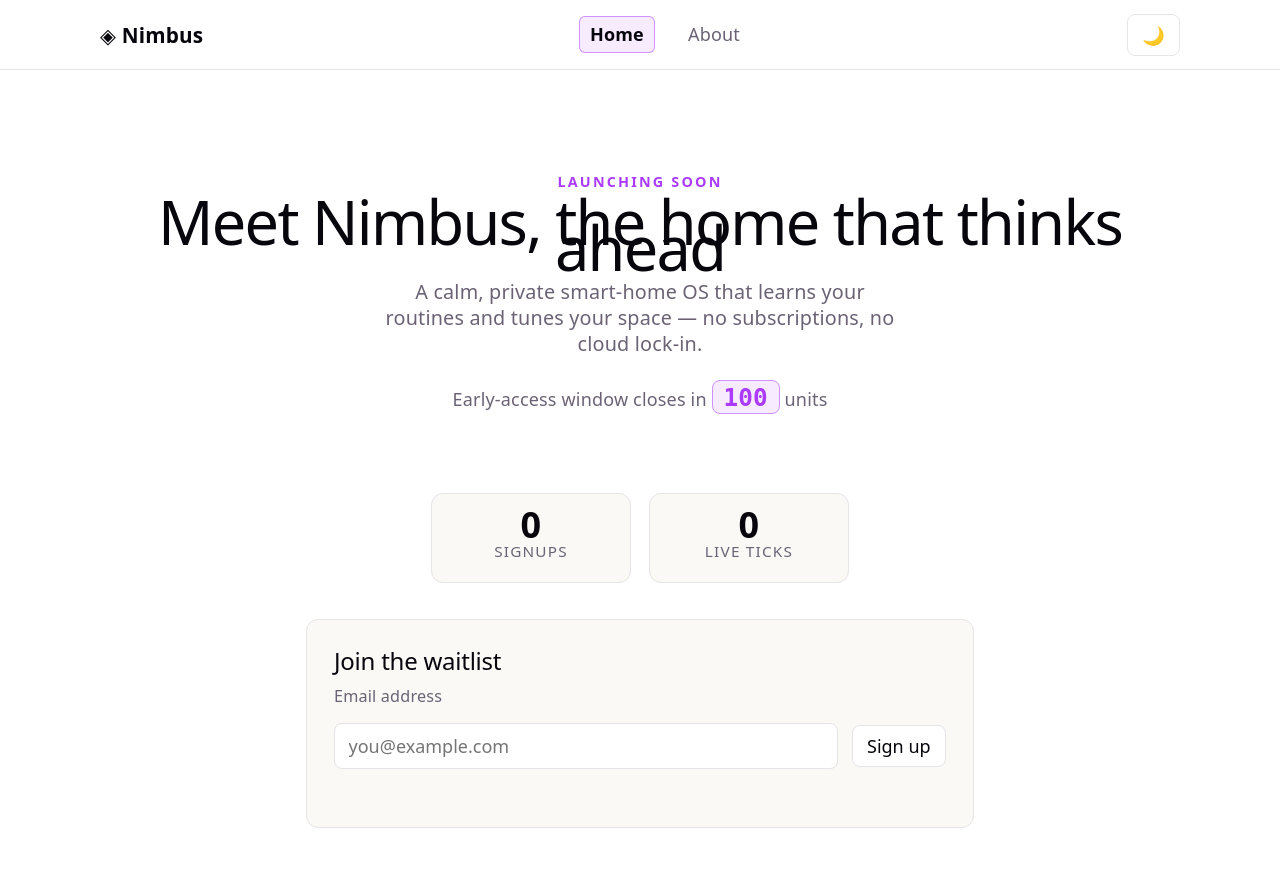
signup form › adds a valid address to recent signups and the stats strip
Type "ada@example.com" into the field labelled "Email address" at (586, 746), box x1=334 y1=723 x2=838 y2=769
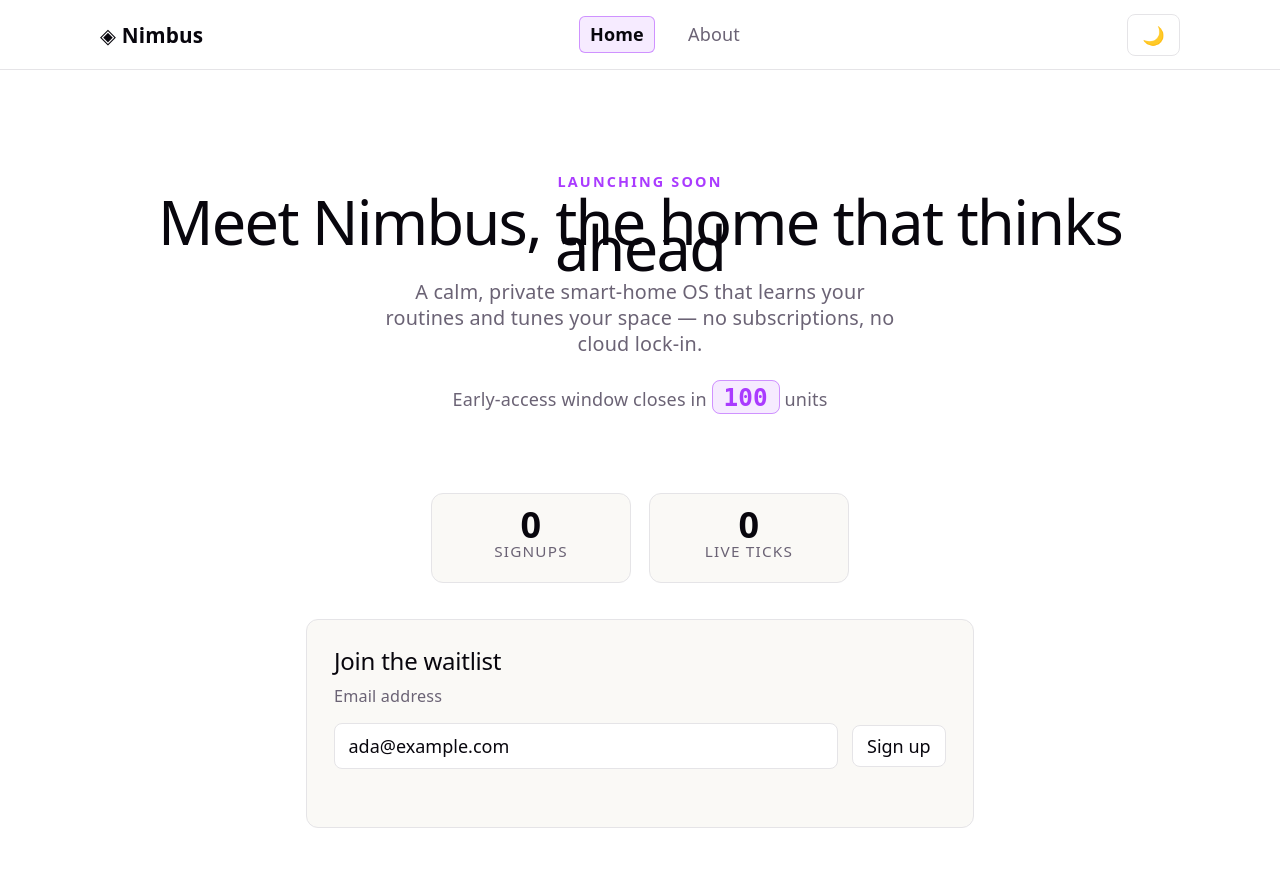
Submit the form with id "signup-form", box x1=334 y1=683 x2=946 y2=769
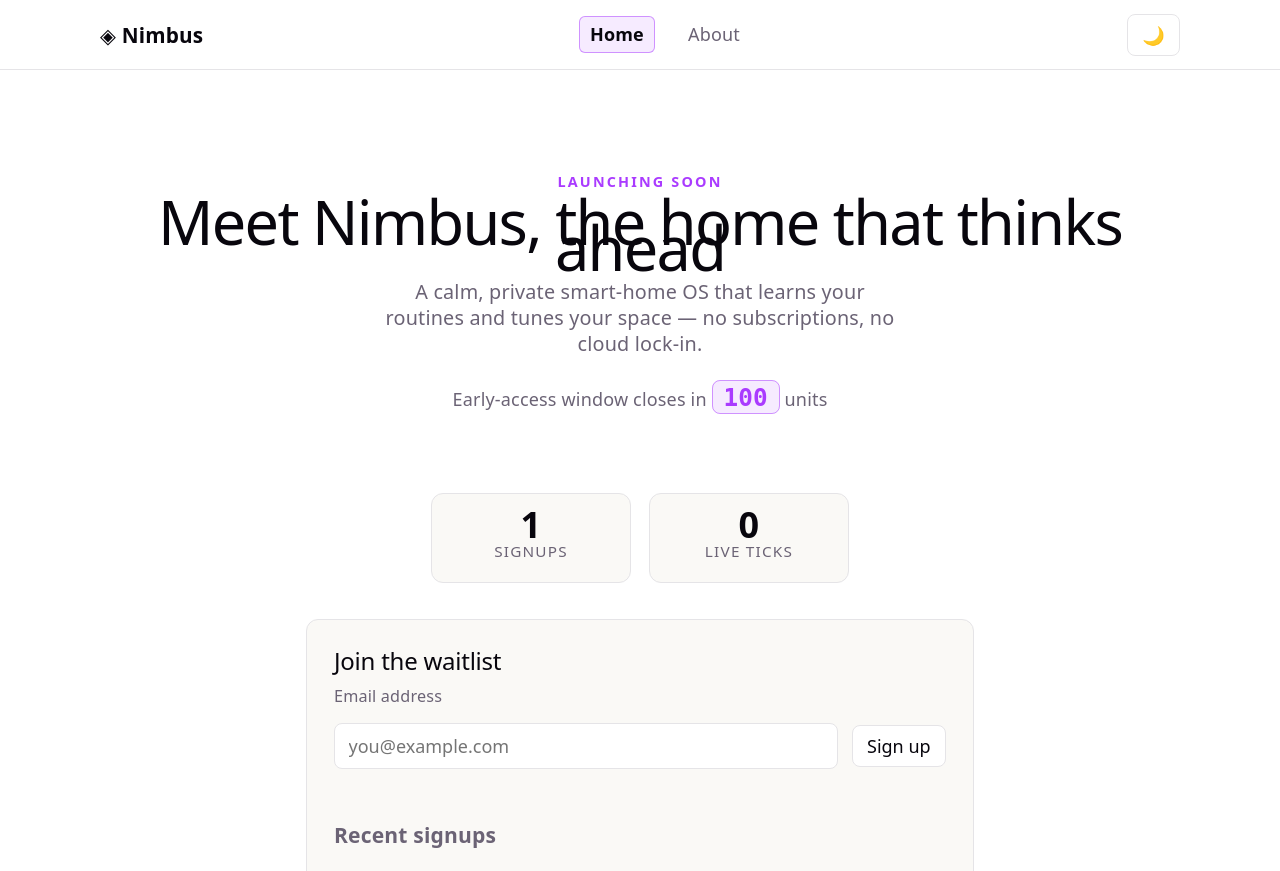
Now the text with id "stat-signups" reads "1", box x1=521 y1=500 x2=541 y2=549
